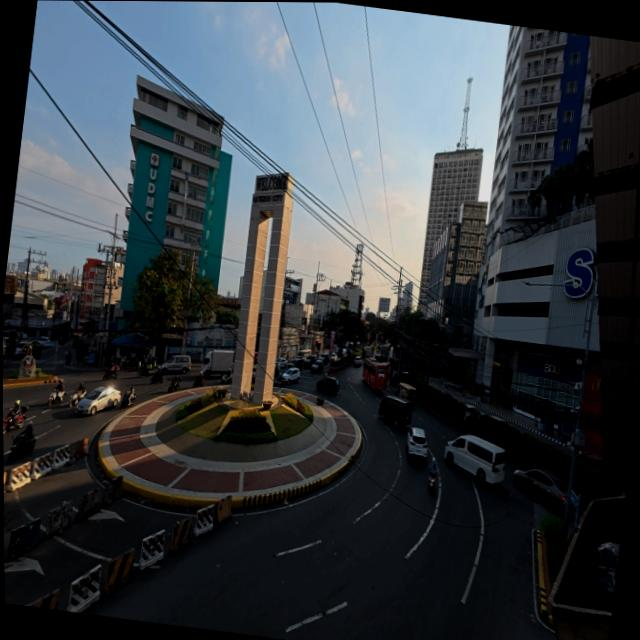Jeepneys: (397, 383, 416, 402)
bus: (363, 358, 389, 390)
car: (513, 469, 568, 511), (76, 387, 121, 415), (407, 427, 427, 461), (161, 355, 191, 374), (577, 453, 603, 470), (317, 376, 340, 394), (281, 367, 300, 384), (464, 404, 481, 421), (15, 342, 32, 357), (489, 415, 510, 427), (311, 358, 324, 373), (289, 357, 304, 369), (38, 337, 56, 347), (304, 355, 316, 367), (276, 358, 288, 369), (352, 355, 362, 367), (58, 334, 68, 344), (320, 353, 329, 364), (330, 353, 338, 362)
motorcycle: (8, 435, 36, 462), (3, 406, 27, 434), (69, 384, 86, 407), (48, 385, 65, 406), (120, 391, 135, 409), (104, 364, 118, 380), (168, 379, 180, 392), (137, 363, 149, 376), (221, 372, 232, 385), (151, 373, 163, 384), (193, 375, 204, 387), (64, 351, 72, 366), (429, 475, 435, 490)
trucks: (202, 350, 234, 378)
vans: (444, 435, 504, 484), (379, 396, 412, 426)
